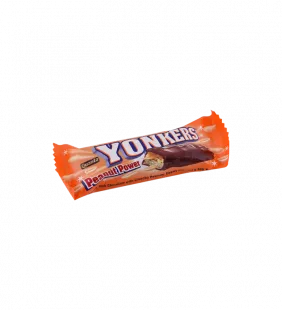YONKERS: (44, 101, 236, 211)
